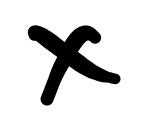mult: (29, 26, 120, 101)
